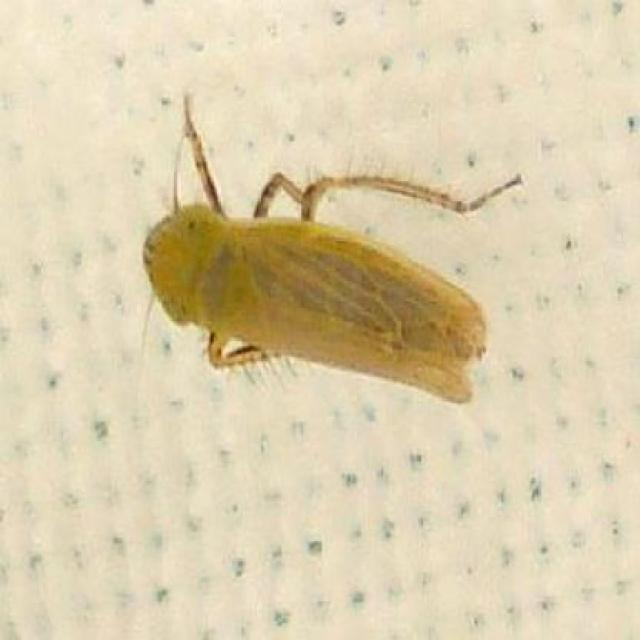green-leafhopper: (137, 80, 518, 409)
